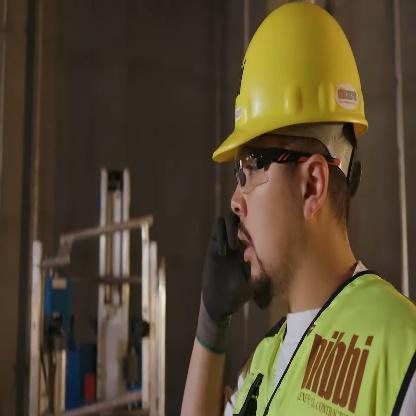helmet: (214, 1, 378, 285)
